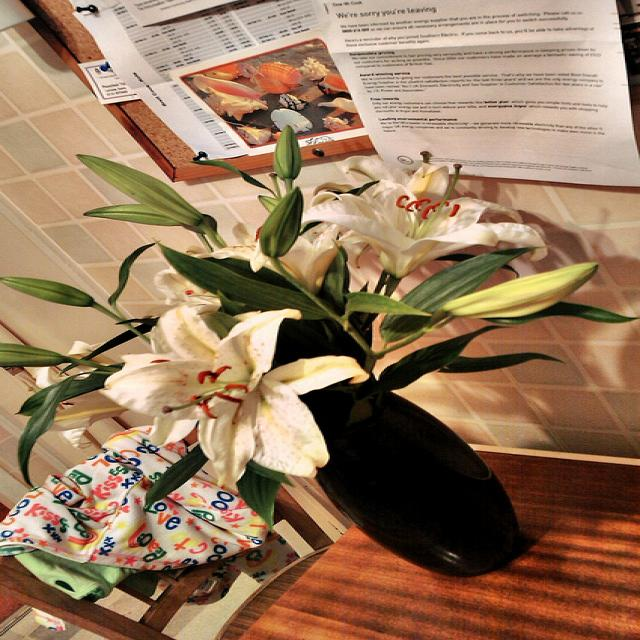chair: (0, 483, 334, 640)
dining table: (213, 445, 640, 640)
